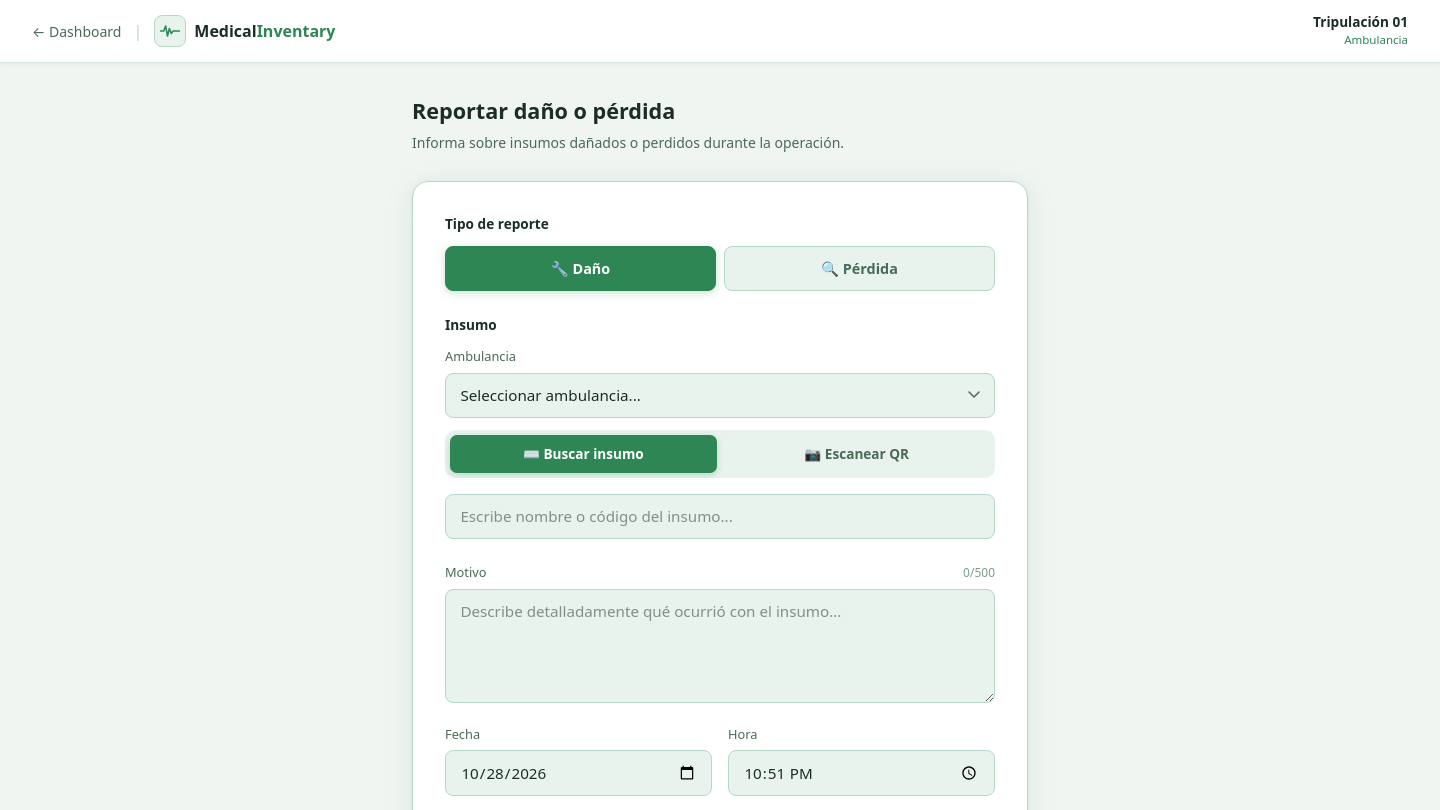
Test case: dano/page.js · formulario › el tipo cambia entre daño y pérdida y el botón lo refleja
Expected: the heading "Reportar daño o pérdida" is shown, [412,96,675,125]
Step 1. Click the button "🔍 Pérdida" → (860, 268), box [724,246,995,290]
(page scrolled)
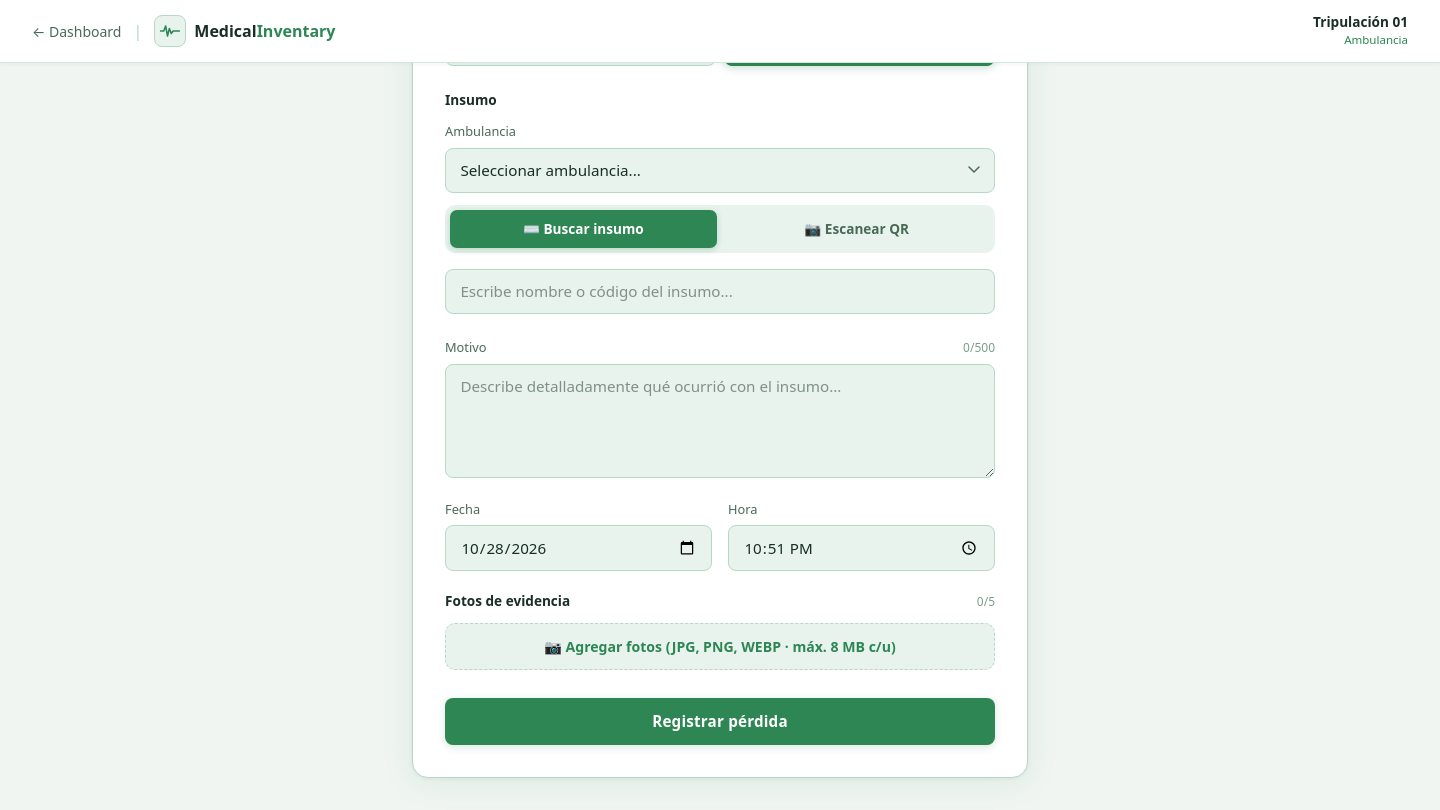
Now the button "Registrar pérdida" is shown, box [445,698,995,745]
